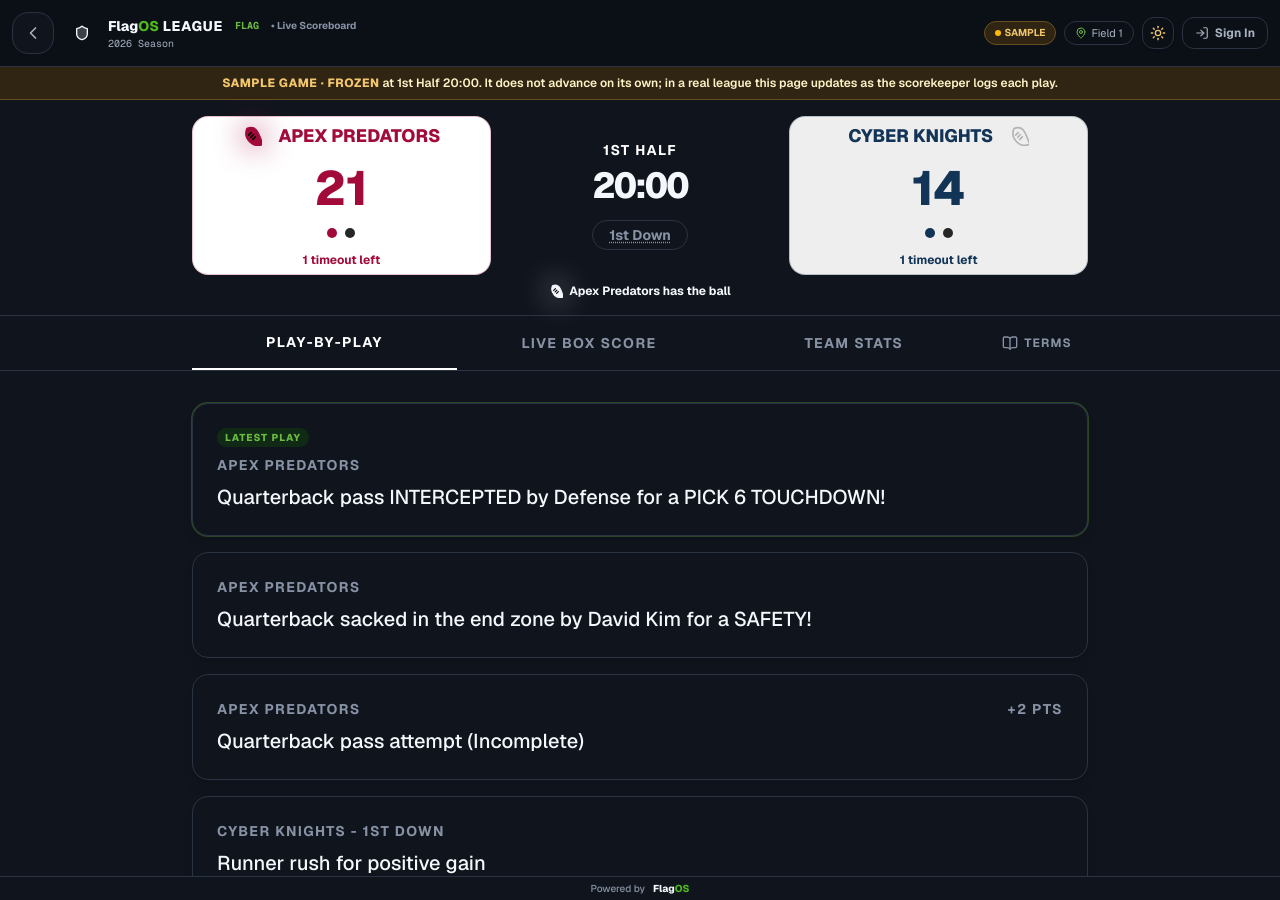
Test: Live Game Spectator & Box Score Suite (ViewerView) › calculates conversions and defensive events in live box score
This screenshot has width=1280, height=900.
Click the button "Live Box Score" at coordinates (589, 342), box [457,316,722,370]
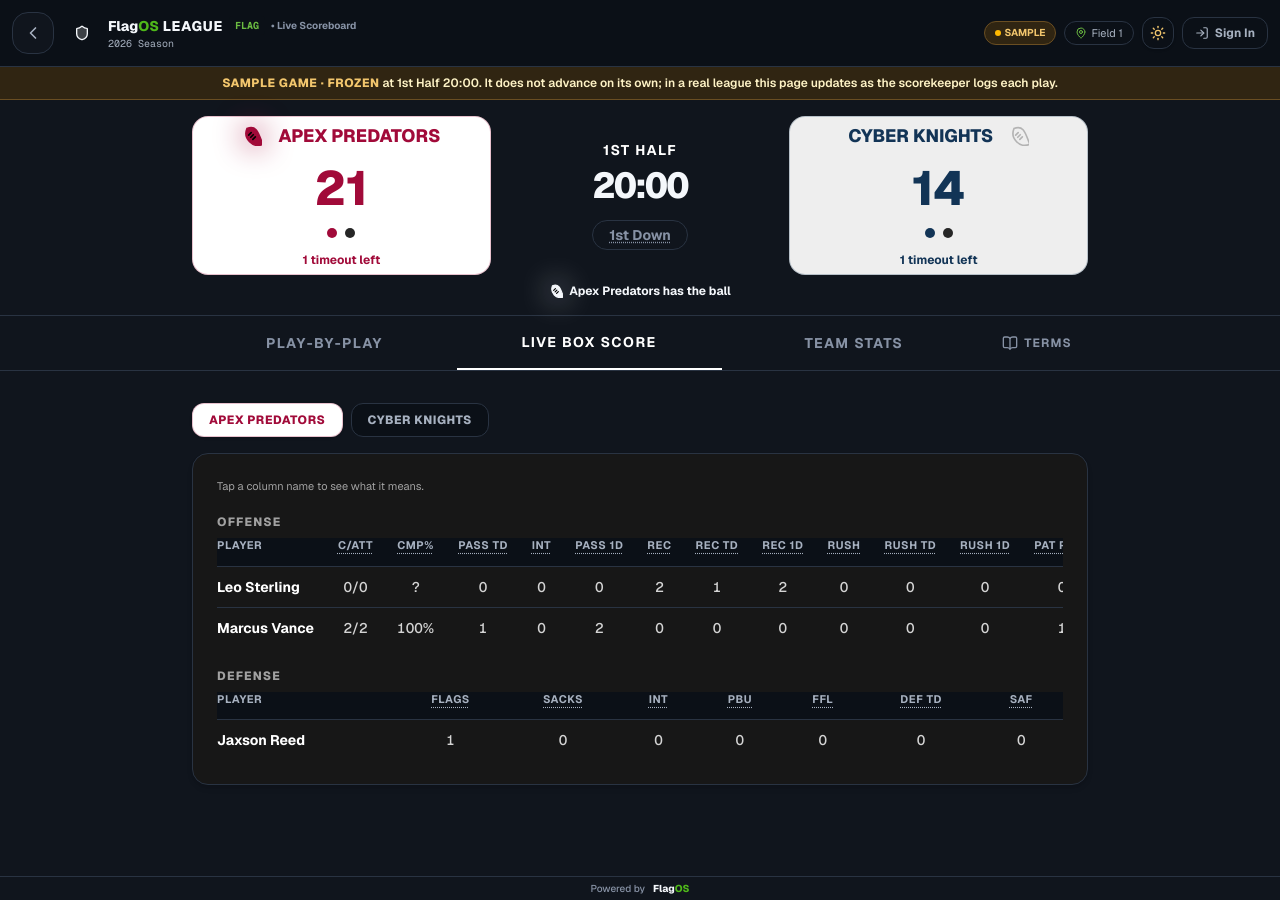
Click the button "Cyber Knights" at coordinates (420, 420), box [350,402,489,436]
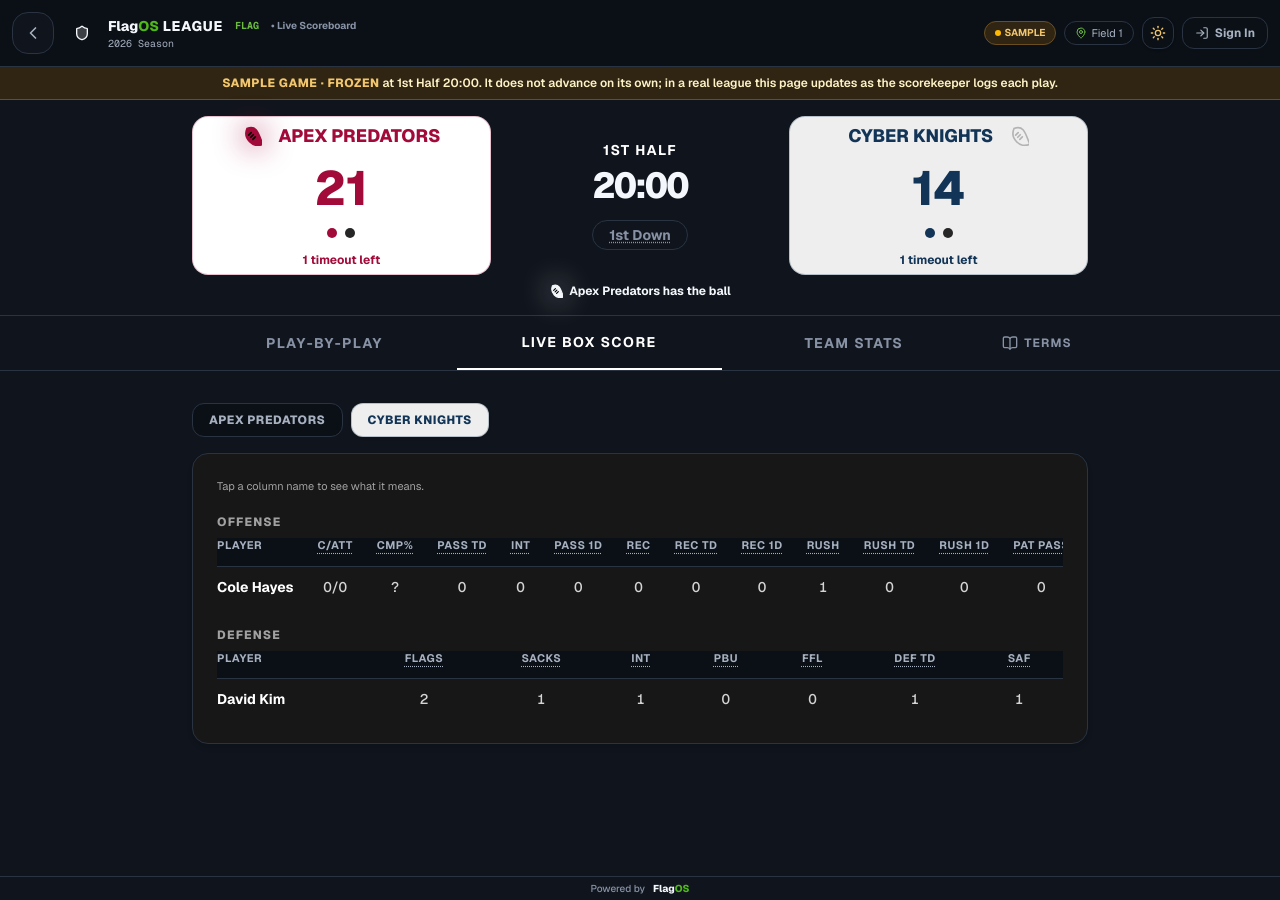
Expected: the text "David Kim" is shown, [217,690,285,708]
